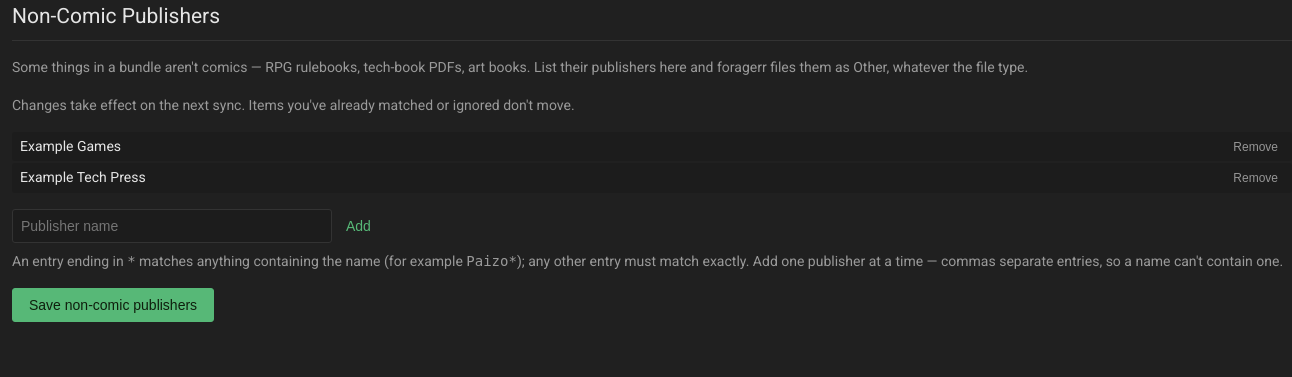
Test: FRG-UI-046: Settings publisher-filtering panel › FRG-UI-046 — re-adding a listed publisher says so instead of looking like a success
Expected: the list item with test id "non-comic-publisher-Example Games" is shown, top-left (12, 132), bottom-right (1291, 161)
Type "example games" into the field with test id "non-comic-publishers-input" at (172, 226), box top-left (12, 209), bottom-right (332, 243)
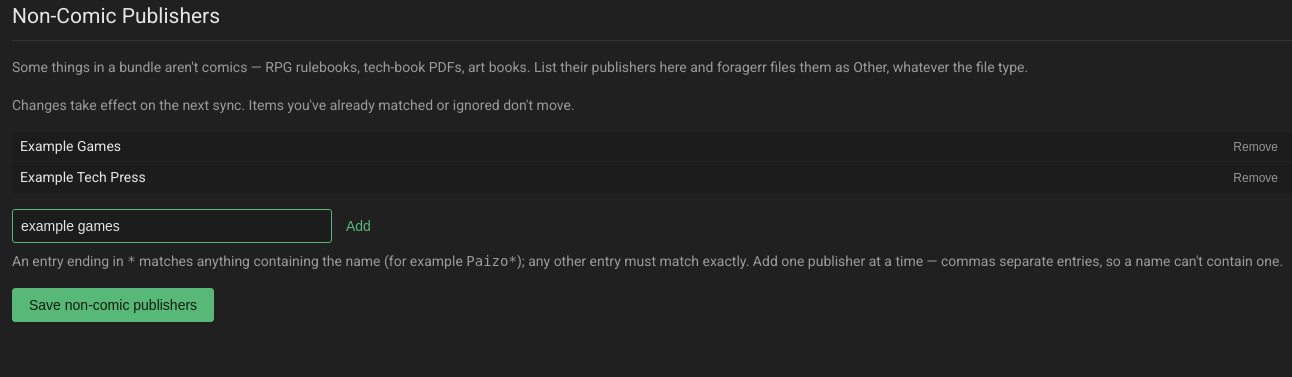
Click the button with test id "non-comic-publishers-add" at (358, 226), box top-left (340, 217), bottom-right (377, 235)
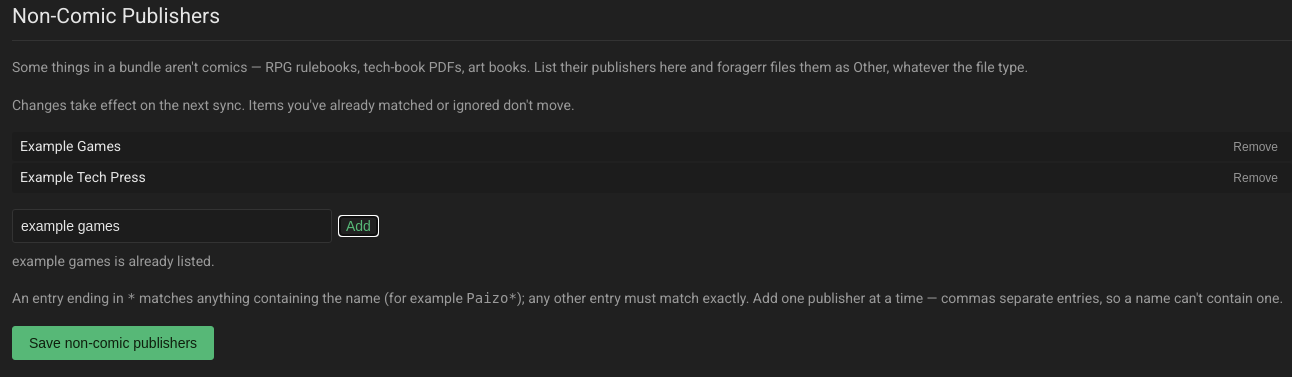
Now the message with test id "non-comic-publishers-hint" shows "already listed", box top-left (12, 253), bottom-right (215, 269)
